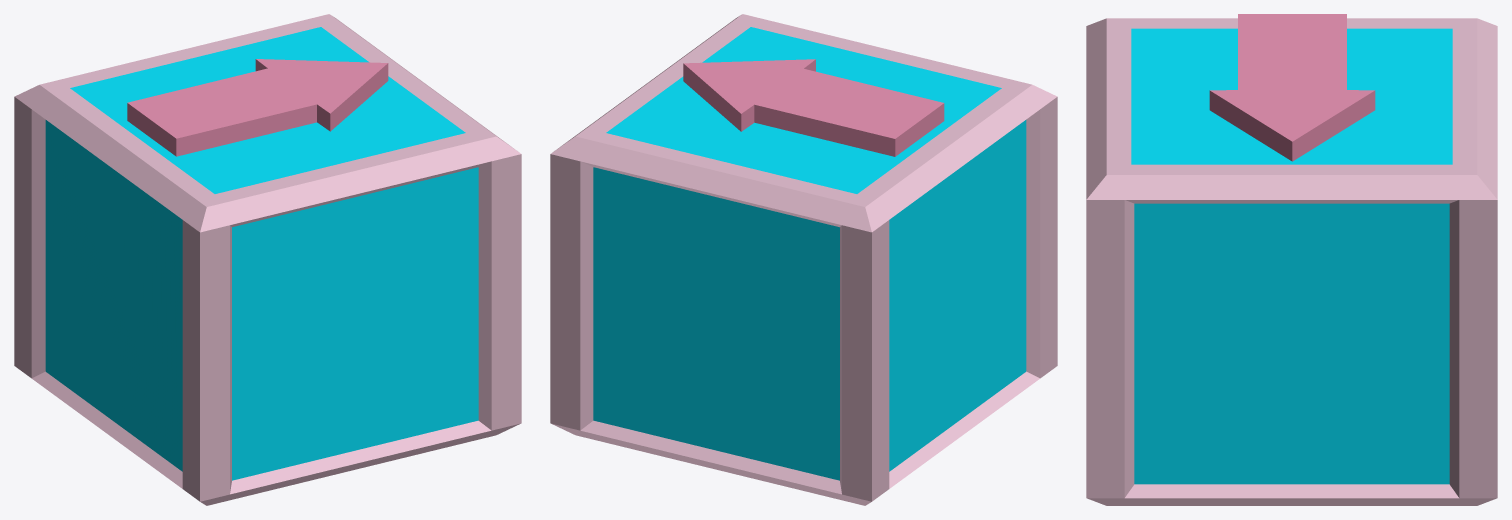
File: DirectionChangerBox_v2.fbx
3 views of the same model, side by side, from view 1: azimuth 30°, elevation 25°; view 2: azimuth 150°, elevation 25°; view 3: azimuth 270°, elevation 25° (orthographic). The views are drawn at different scales.
Visible parts, largest first — view 1: Cube, Cube.001; view 2: Cube, Cube.001; view 3: Cube, Cube.001.
Part boxes in pixels (x1=…): Cube: x1=14, y1=14, x2=521, y2=505; Cube.001: x1=127, y1=59, x2=388, y2=156; Cube: x1=550, y1=14, x2=1057, y2=505; Cube.001: x1=683, y1=59, x2=944, y2=156; Cube: x1=1086, y1=18, x2=1497, y2=505; Cube.001: x1=1209, y1=14, x2=1375, y2=161.
Size of the model in its own units: 100 by 94.16 by 100.
